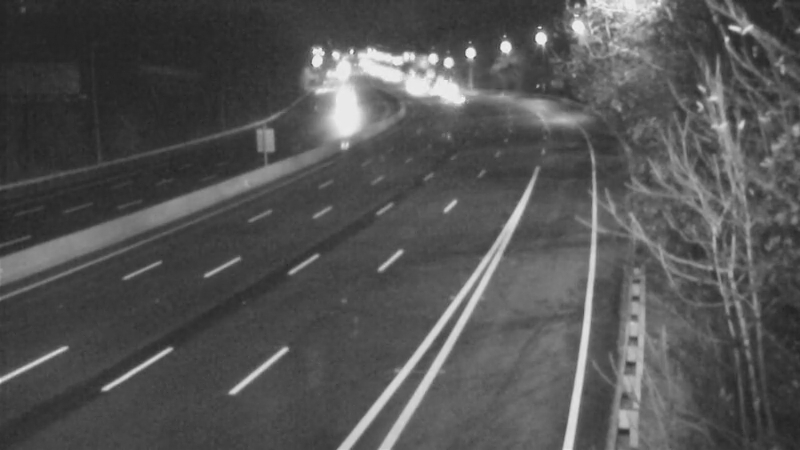vehicle: (426, 76, 476, 126), (312, 79, 362, 129)
